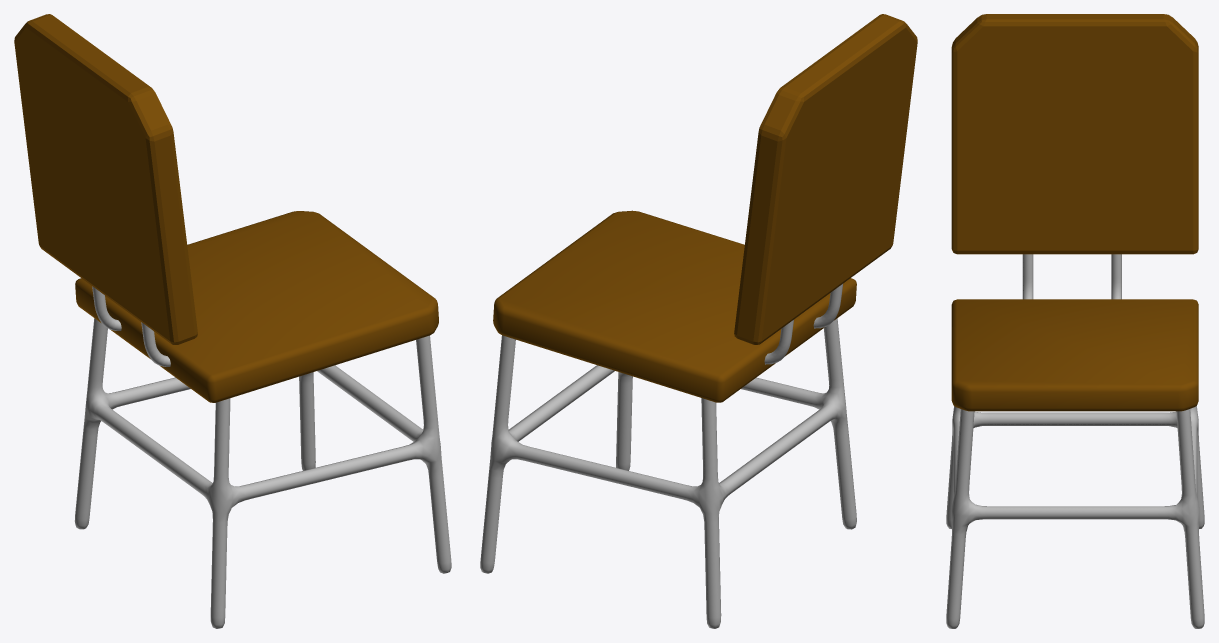
Rendered from Chair.fbx.
3 renders of one model, left to right at view 1: azimuth 30°, elevation 25°; view 2: azimuth 150°, elevation 25°; view 3: azimuth 270°, elevation 25°, orthographic. The views are drawn at different scales.
Parts seen in each view (by area): view 1: Joined Chair; view 2: Joined Chair; view 3: Joined Chair.
Part boxes in pixels (x1=…): Joined Chair: x1=14, y1=14, x2=451, y2=628; Joined Chair: x1=480, y1=14, x2=917, y2=628; Joined Chair: x1=946, y1=14, x2=1204, y2=628.
Size of the model in its own units: 228 by 384 by 185.
